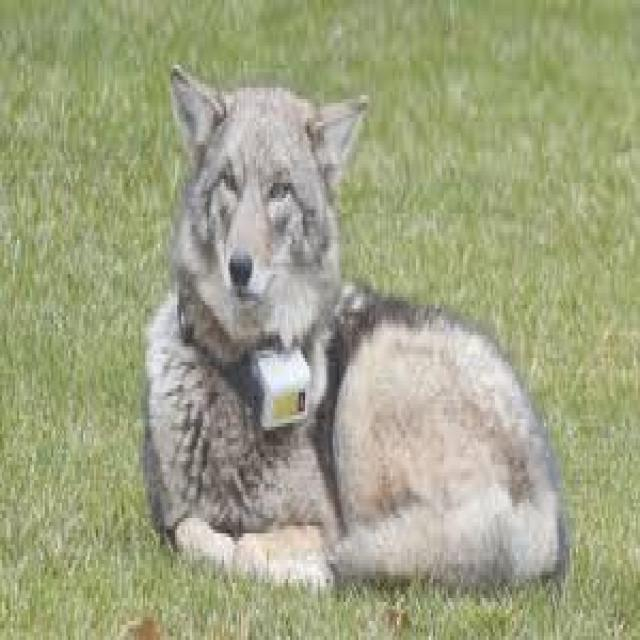Coyote: (134, 52, 568, 590)
